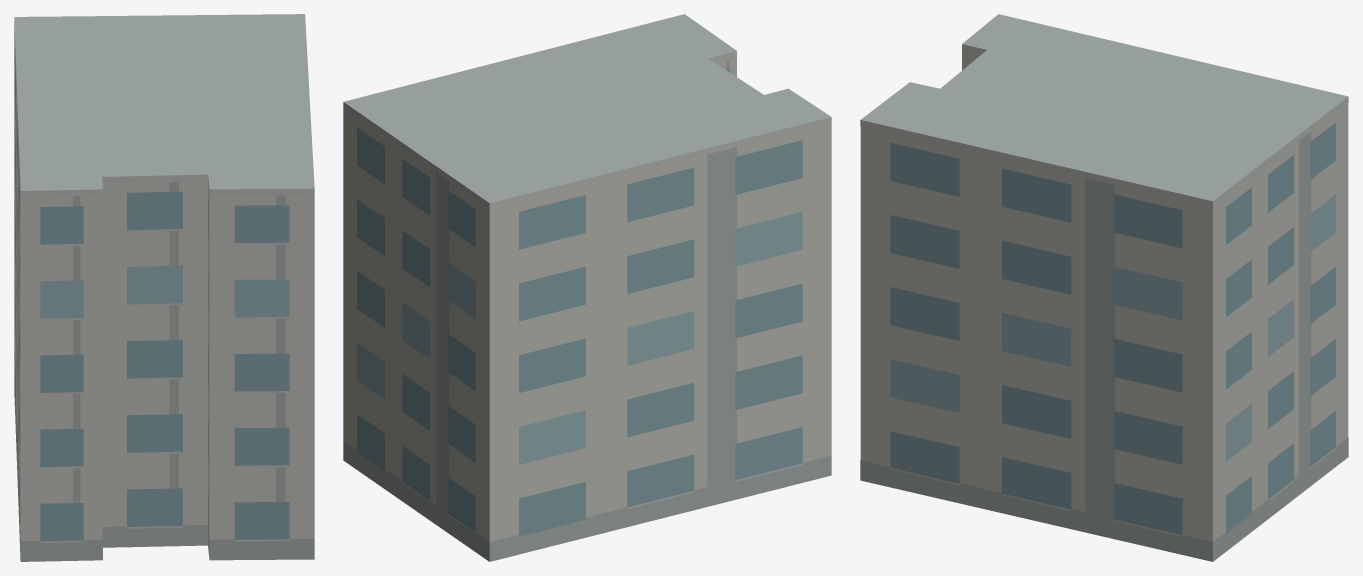
The model's file is survey-upis-32878569.glb.
3 renders of one model, left to right at view 1: azimuth 30°, elevation 25°; view 2: azimuth 150°, elevation 25°; view 3: azimuth 270°, elevation 25°, orthographic. The views are drawn at different scales.
Parts seen in each view (by area): view 1: survey-upis-32878569.tmp; view 2: survey-upis-32878569.tmp; view 3: survey-upis-32878569.tmp.
Boxes of the visible parts, x1=… form: survey-upis-32878569.tmp: x1=14, y1=14, x2=314, y2=561; survey-upis-32878569.tmp: x1=343, y1=14, x2=831, y2=561; survey-upis-32878569.tmp: x1=860, y1=14, x2=1348, y2=561.
Size of the model in its own units: 15.38 by 13.8 by 16.93.
